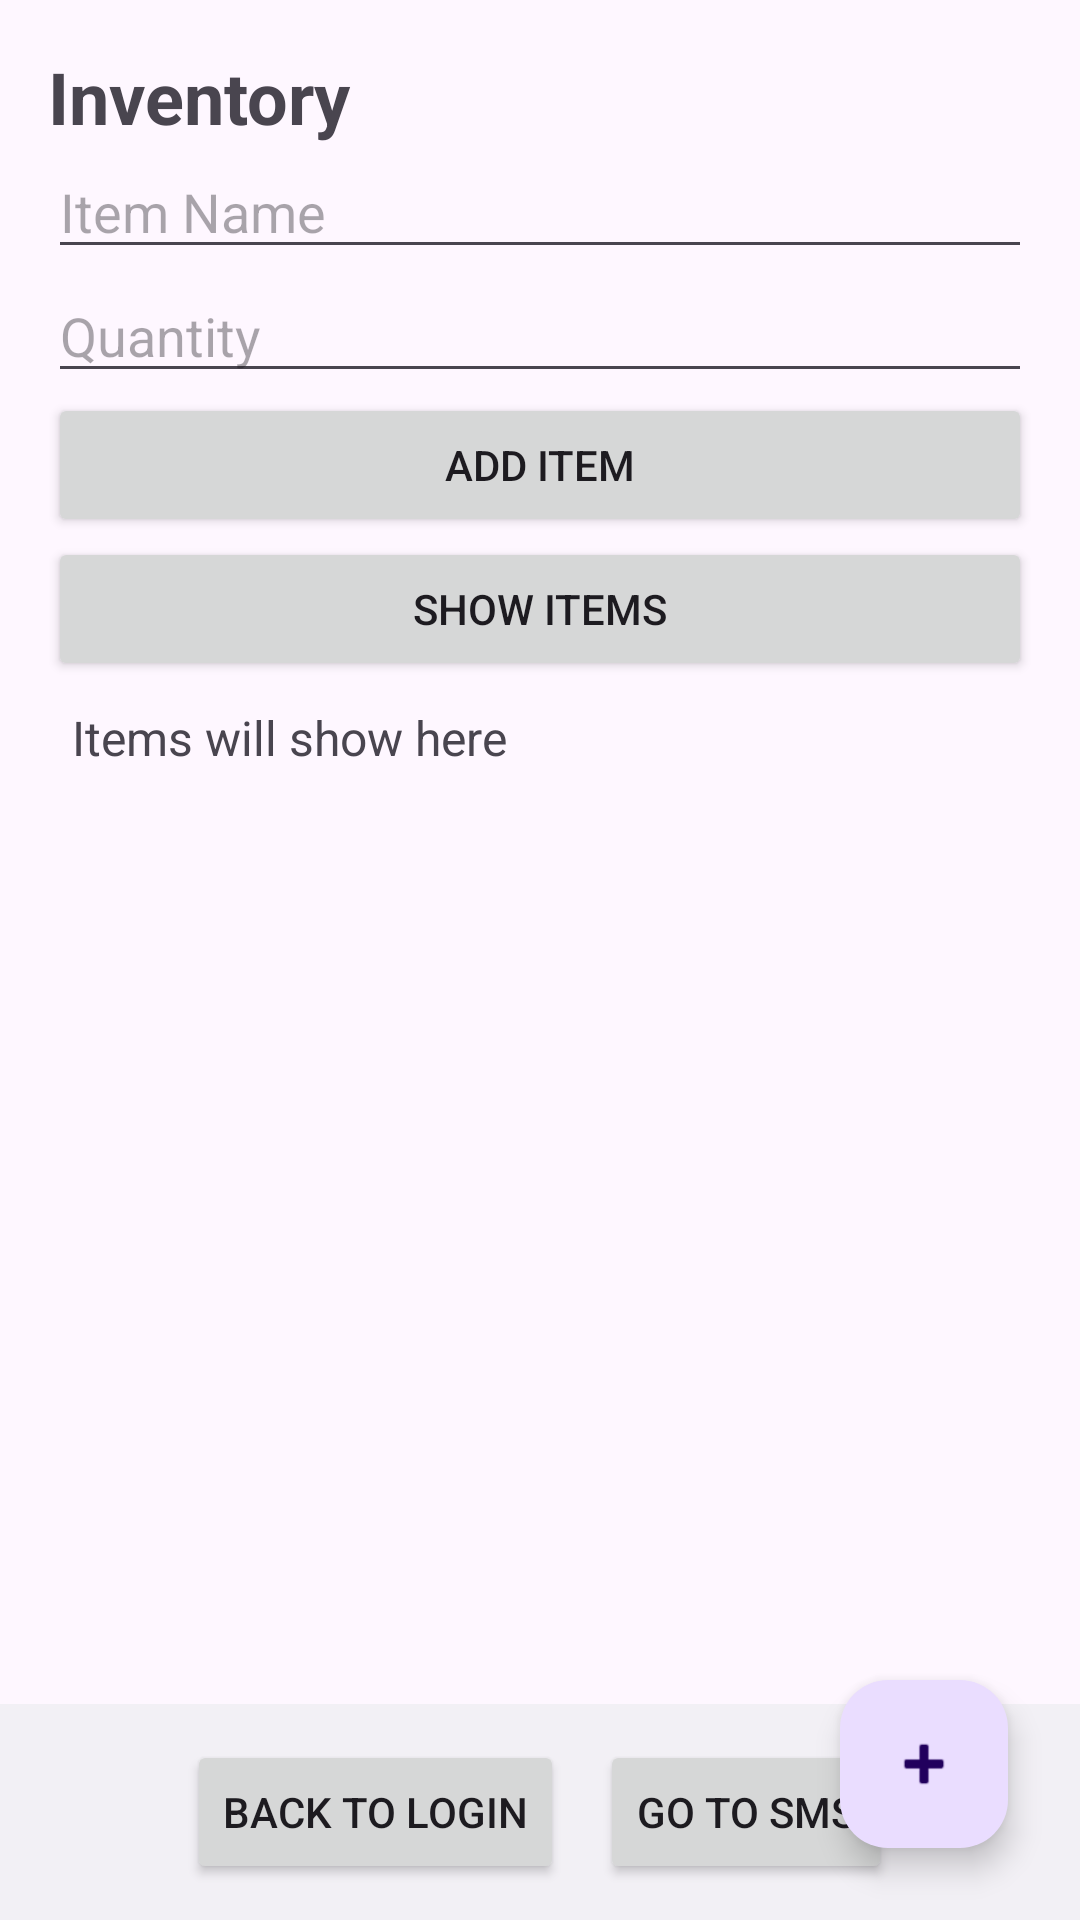

Named icons in this screenshot (1080x1920) and their centers, point (x, y):
Add Item: point (924, 1764)
